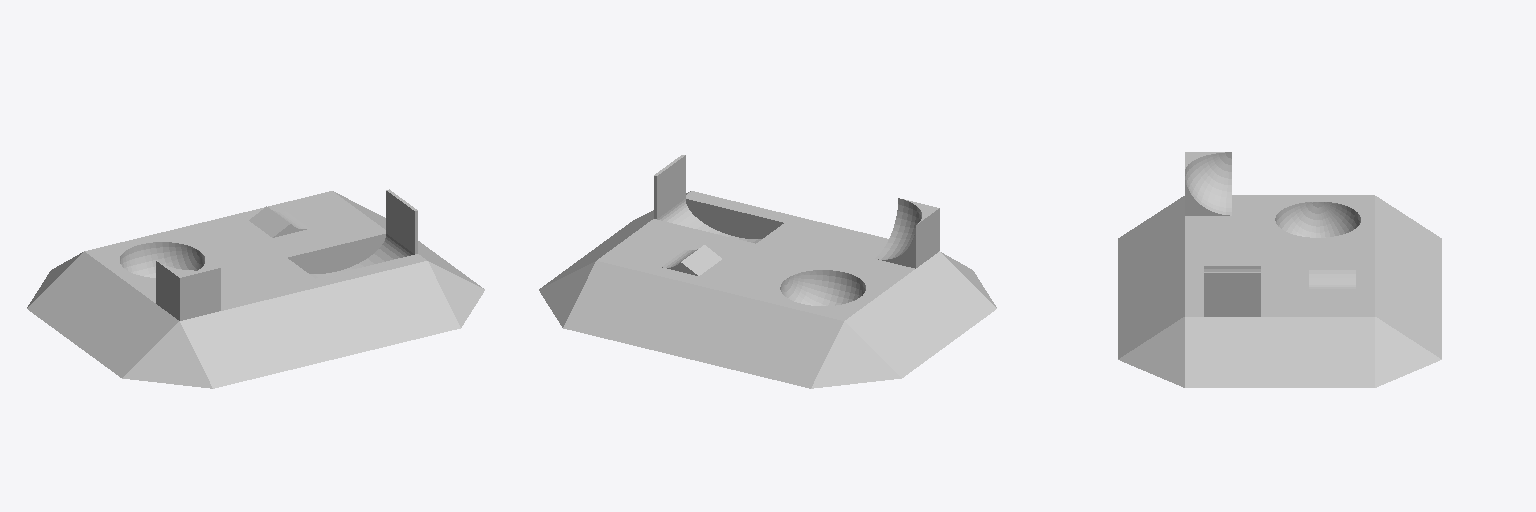
The model's file is skatepark one.obj.
3 renders of one model, left to right at view 1: azimuth 30°, elevation 25°; view 2: azimuth 150°, elevation 25°; view 3: azimuth 270°, elevation 25°, orthographic.
Visible parts, largest first — view 1: Skatepark1_-_Copy; view 2: Skatepark1_-_Copy; view 3: Skatepark1_-_Copy.
Boxes of the visible parts, <box> form: Skatepark1_-_Copy: <box>27,189,484,388</box>; Skatepark1_-_Copy: <box>539,155,996,388</box>; Skatepark1_-_Copy: <box>1118,152,1441,387</box>.
Size of the model in its own units: 55.88 by 12.7 by 43.18.